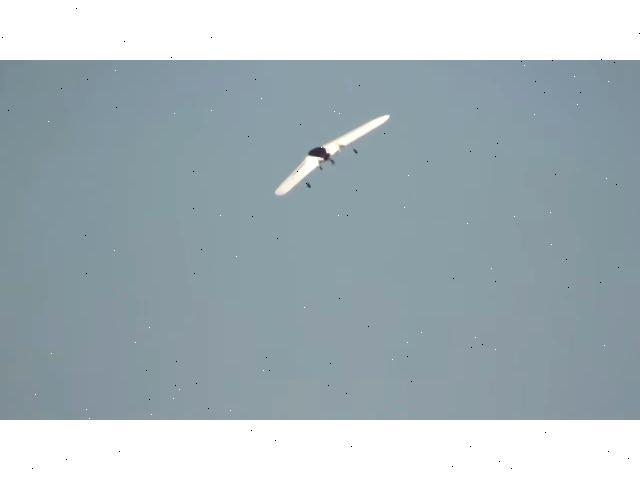Anti-Drone: (274, 116, 390, 196)
